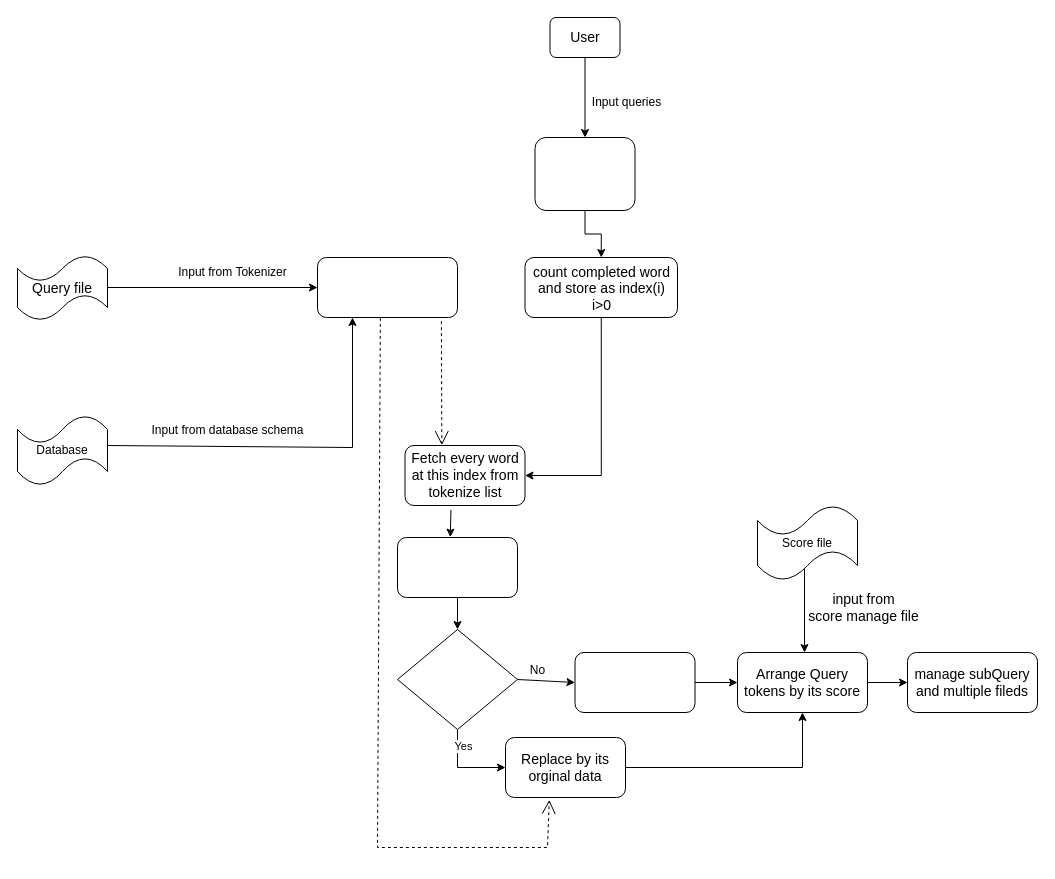
This 1055x879 diagram has some shape labels left out. Each missing label, with the centre of its shape:
"if placeholders" belongs at [457,679].
"Match the closest word from list" belongs at [457,567].
"Search placeholders Ex: [field],[table]" belongs at [634,682].
"Split into complete and incomplete word" belongs at [584,173].
"Store in temporary memory" belongs at [387,287].
